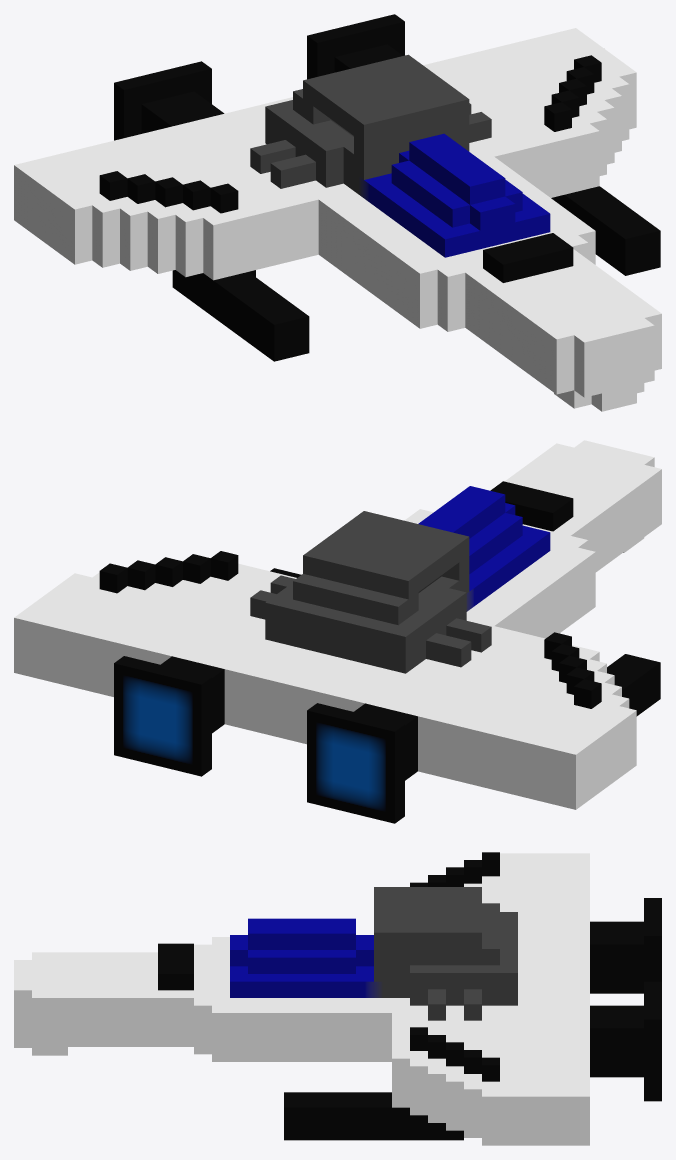
The model's file is Ship.fbx.
The picture shows the model from 3 angles, top to bottom: view 1: azimuth 30°, elevation 25°; view 2: azimuth 150°, elevation 25°; view 3: azimuth 270°, elevation 25°; orthographic projection. The views are drawn at different scales.
Visible parts, largest first — view 1: Matrix; view 2: Matrix; view 3: Matrix.
Boxes of the visible parts, x1,y1,x2,y2 form: Matrix: (14, 14, 661, 411); Matrix: (14, 440, 661, 823); Matrix: (14, 852, 661, 1145).
Bounding box in the file's own units: 32 × 9 × 36.
1 material, 1 textured.
